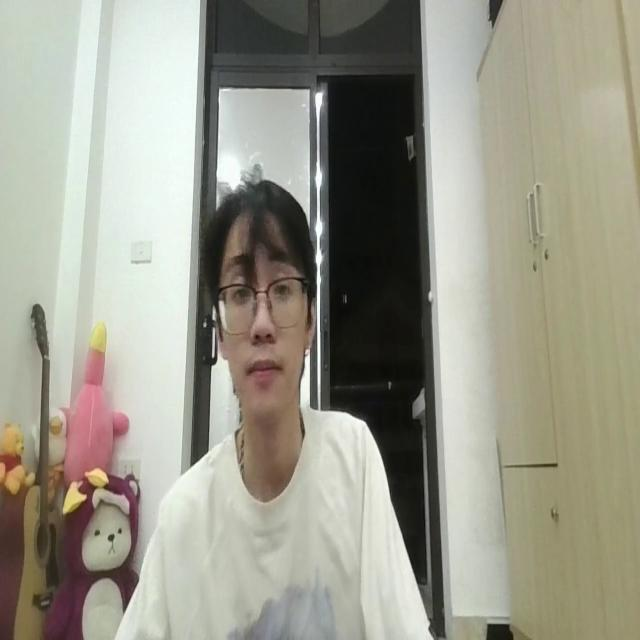student: (102, 170, 440, 640)
